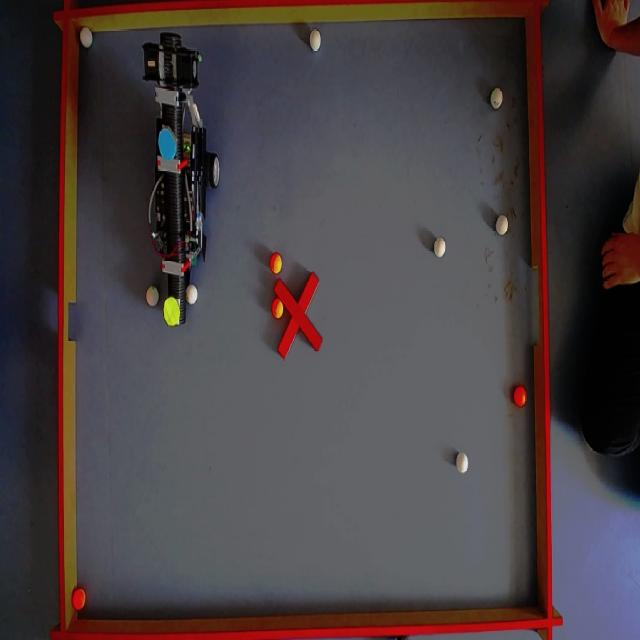orange: (72, 585, 86, 611), (513, 388, 526, 408), (270, 255, 283, 274), (272, 302, 282, 318)
robot: (139, 35, 221, 316)
robot-front: (162, 298, 182, 326)
robot-rear: (156, 126, 178, 160)
white: (491, 87, 505, 109), (146, 286, 160, 308), (308, 30, 322, 51), (80, 27, 94, 47), (497, 217, 510, 236), (187, 286, 199, 306), (459, 456, 471, 476), (435, 238, 448, 256)
